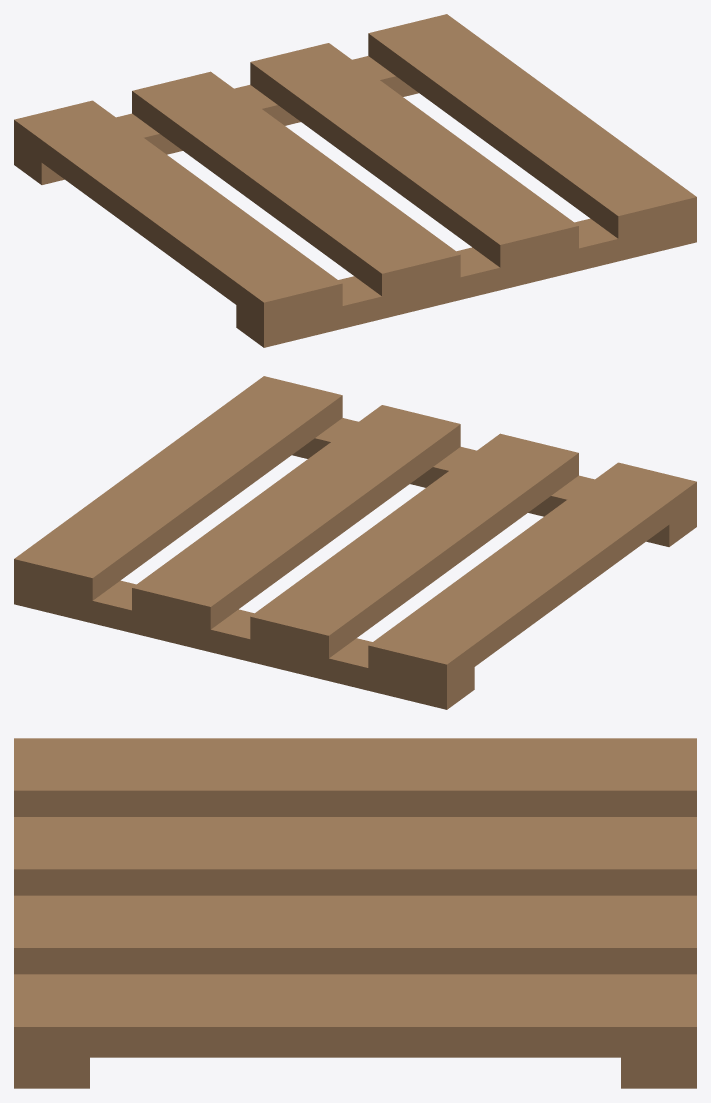
File: SmallPallet.fbx
The picture shows the model from 3 angles, top to bottom: view 1: azimuth 30°, elevation 25°; view 2: azimuth 150°, elevation 25°; view 3: azimuth 270°, elevation 25°; orthographic projection. The views are drawn at different scales.
Parts seen in each view (by area): view 1: SmallPallet; view 2: SmallPallet; view 3: SmallPallet.
Boxes of the visible parts, <box> form: SmallPallet: <box>14,14,696,347</box>; SmallPallet: <box>14,376,696,709</box>; SmallPallet: <box>14,738,696,1088</box>.
Size of the model in its own units: 100 by 10 by 100.
